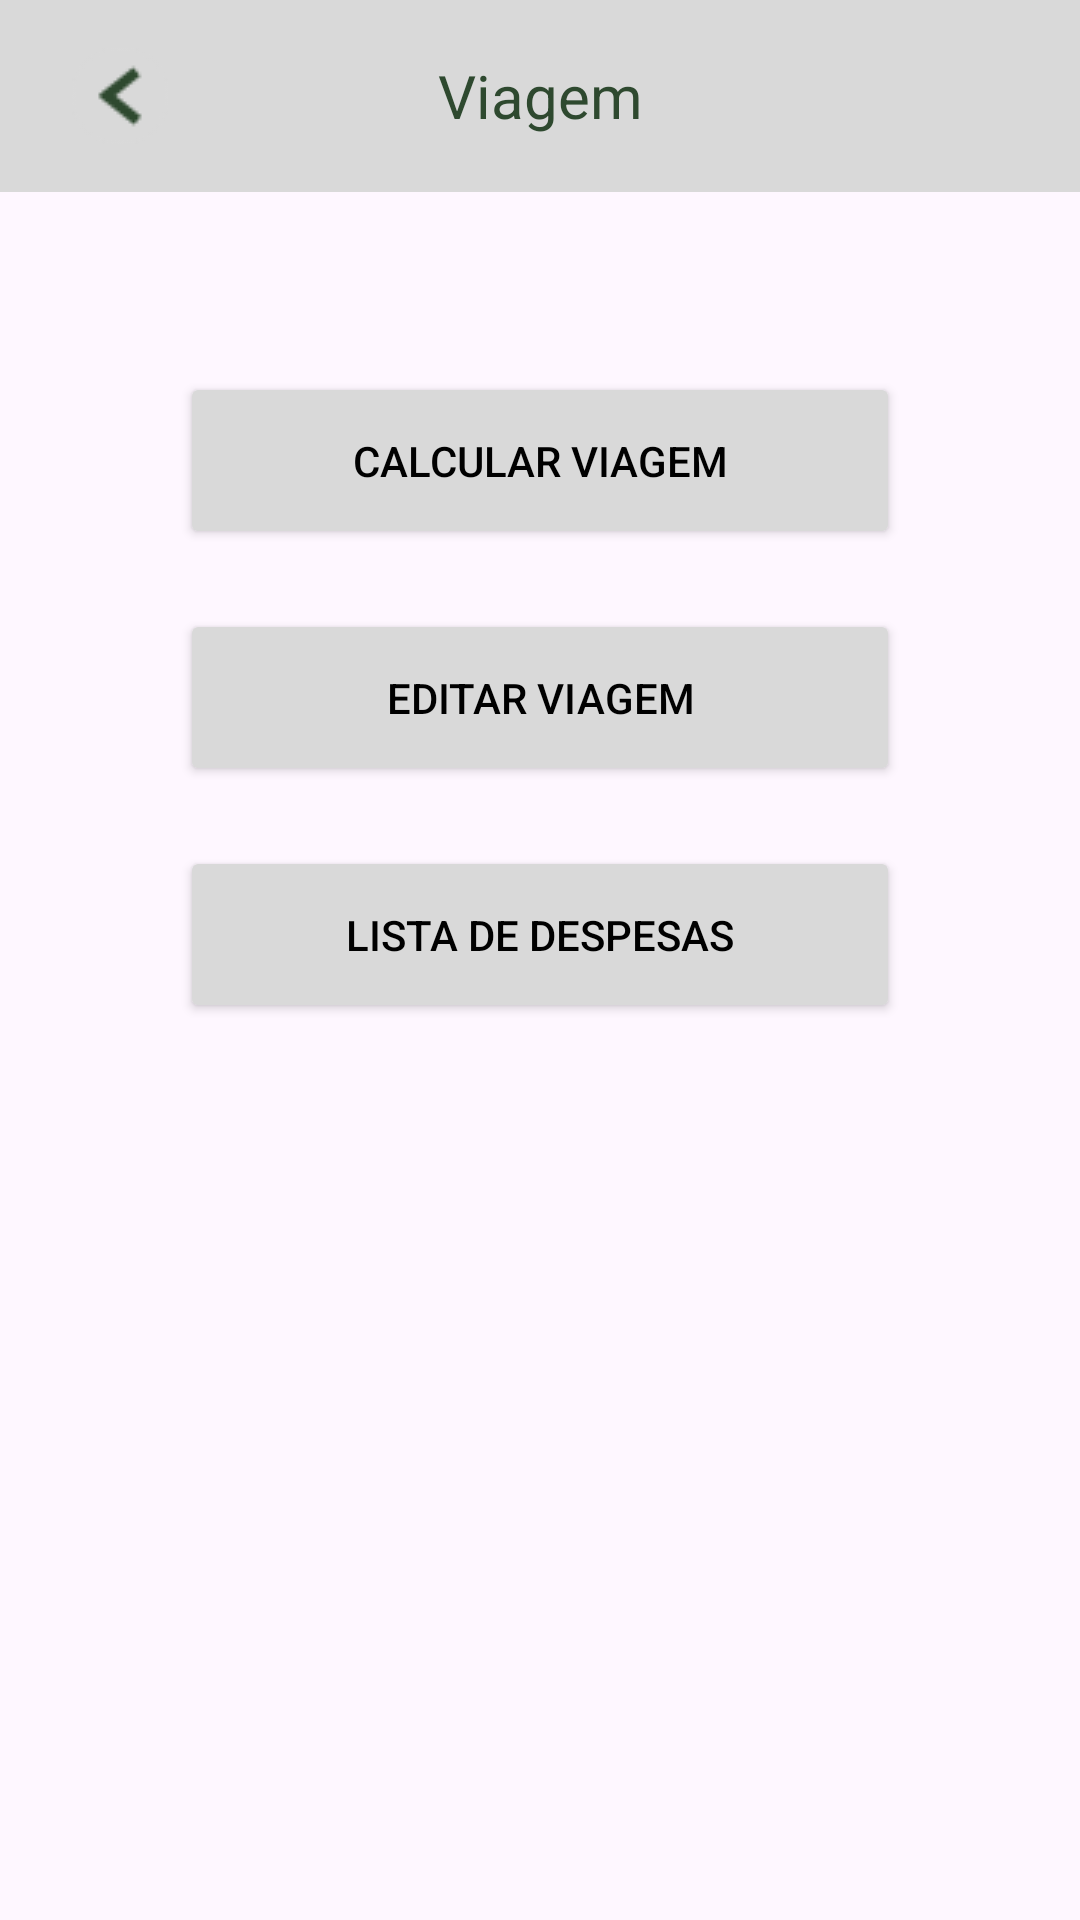

Named icons in this screenshot (1080 x 1920) and their centers, point (x, y):
Voltar: point (120, 96)
